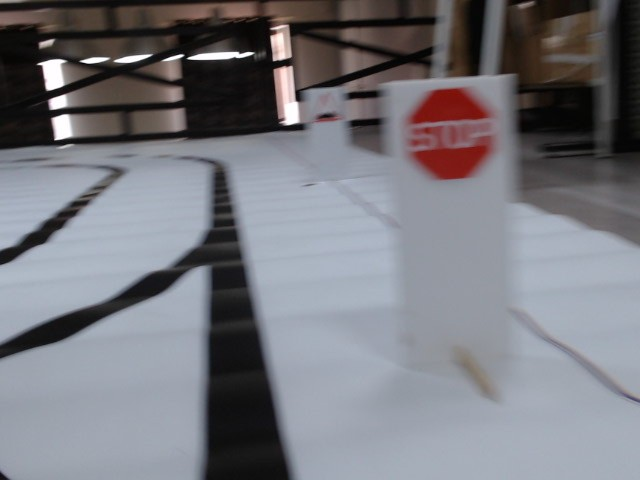Stop: (403, 92, 499, 178)
